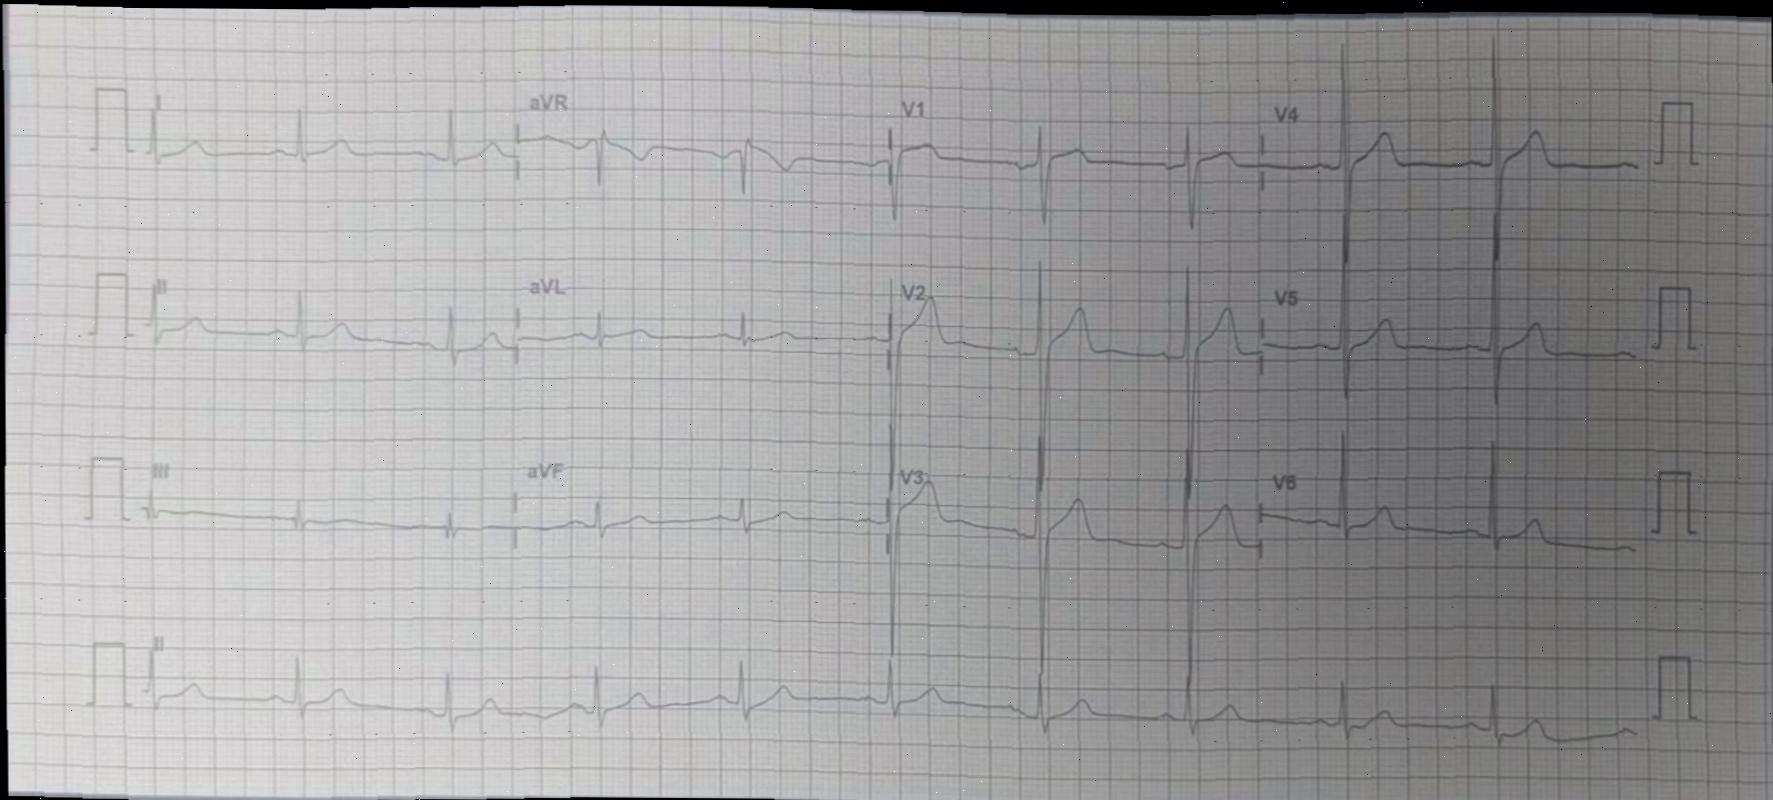Lead_I: (135, 76, 516, 198)
Lead_II: (136, 259, 517, 395)
Lead_III: (132, 444, 516, 575)
Lead_V1: (889, 76, 1262, 240)
Lead_V2: (886, 258, 1263, 493)
Lead_V3: (888, 419, 1261, 692)
Lead_V4: (1261, 20, 1642, 268)
Lead_V5: (1261, 195, 1642, 417)
Lead_V6: (131, 616, 1643, 773), (1262, 405, 1644, 597)
Lead_aVF: (512, 445, 884, 584)
Lead_aVL: (521, 256, 889, 400)
Lead_aVR: (517, 72, 885, 225)
